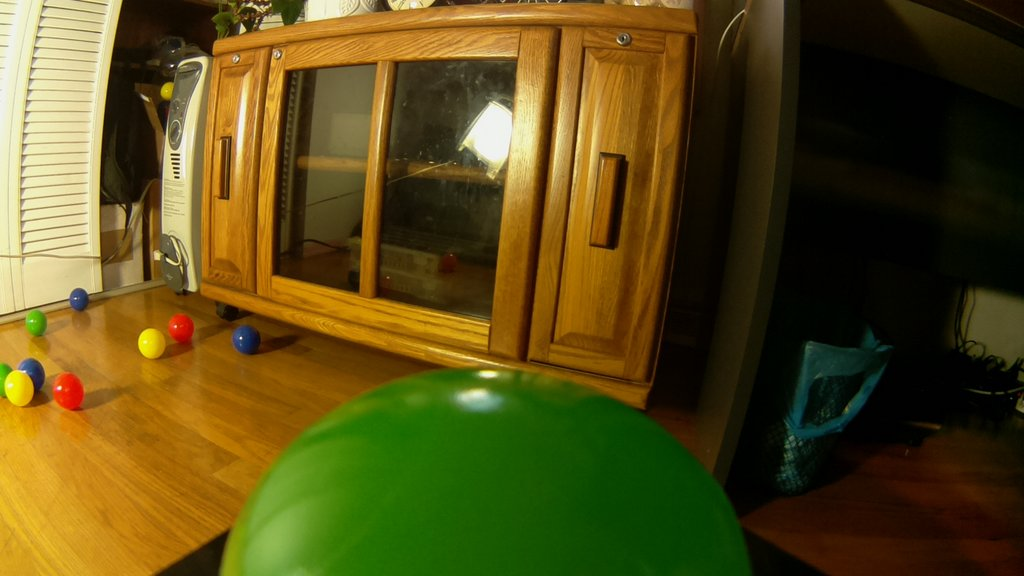home: (1, 362, 14, 398)
